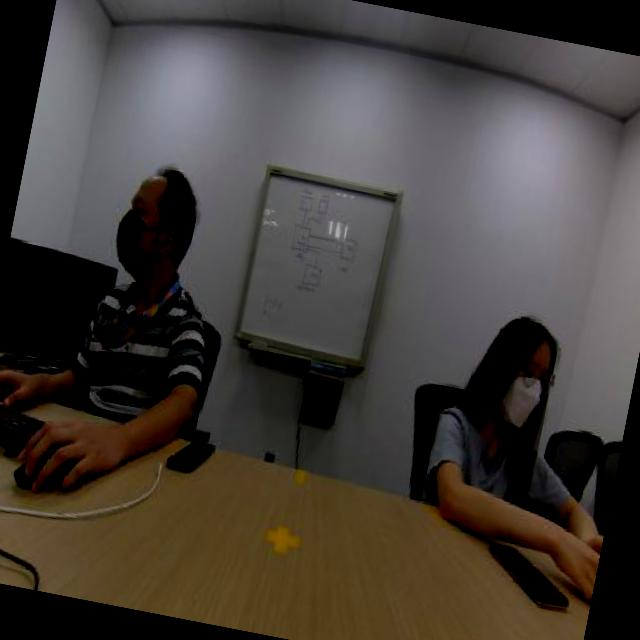Person: (395, 245, 640, 597), (58, 140, 260, 446)
